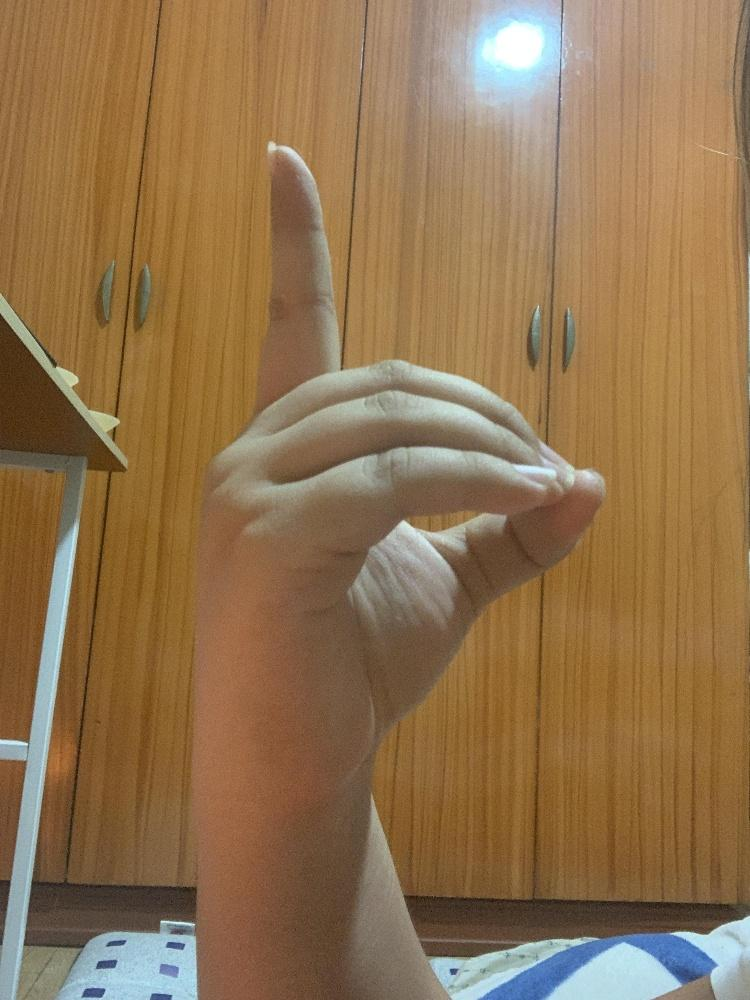d: (180, 140, 606, 797)
